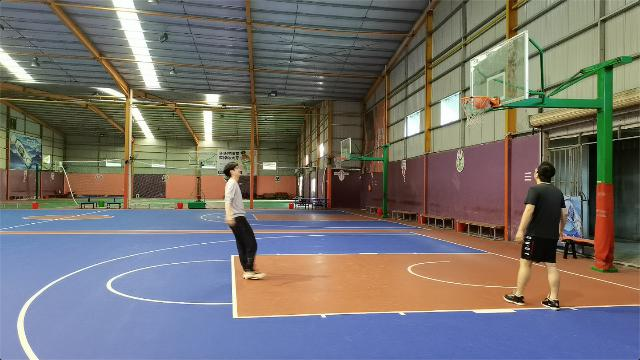basket: (459, 94, 491, 127)
goal: (472, 93, 490, 109)
